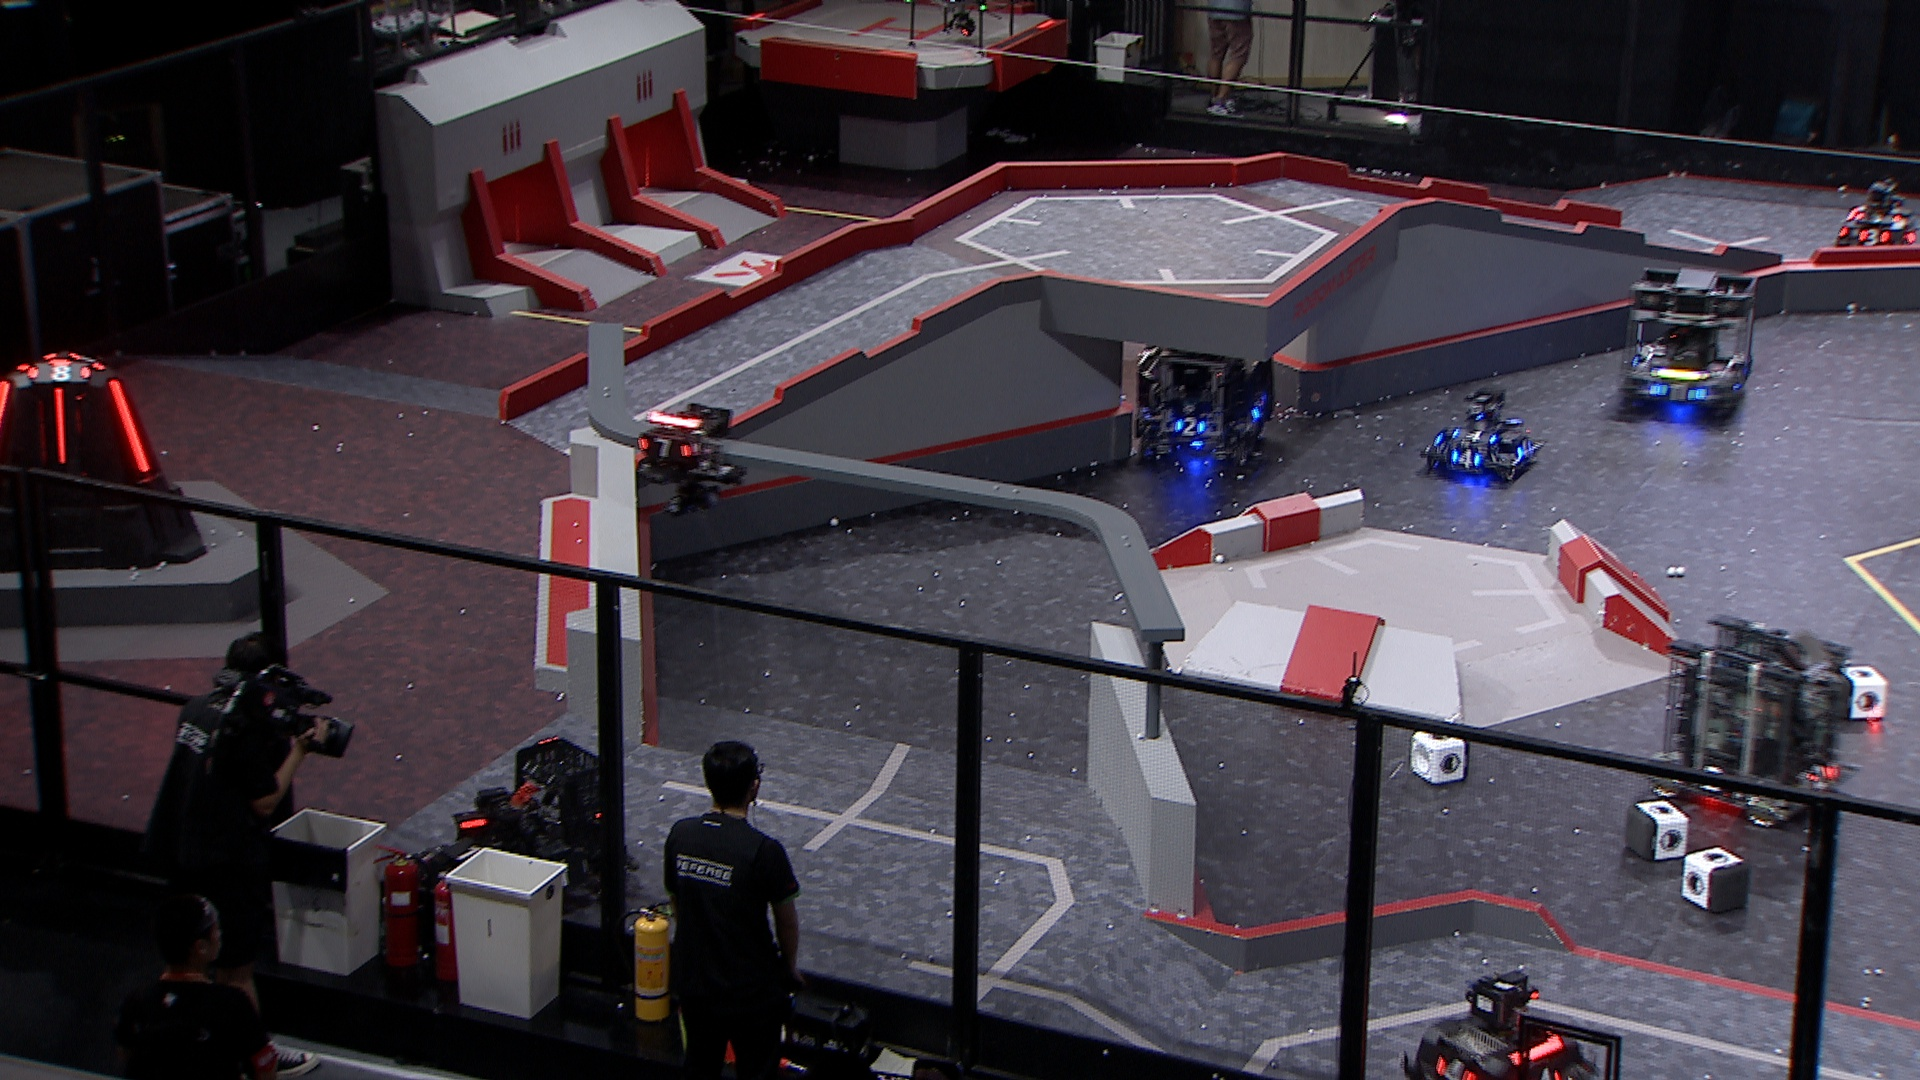armor: (109, 377, 152, 473), (29, 357, 91, 385), (638, 434, 692, 460), (1650, 382, 1709, 404), (53, 386, 69, 463), (442, 836, 483, 864), (1436, 1055, 1480, 1080), (1174, 413, 1209, 440), (1855, 208, 1905, 225), (560, 858, 589, 887), (1854, 225, 1894, 247), (1247, 396, 1273, 427), (1449, 447, 1484, 469), (1452, 429, 1498, 444), (1807, 764, 1840, 785), (1516, 436, 1538, 462), (1528, 1067, 1564, 1080)
car: (1640, 615, 1861, 831), (413, 737, 640, 922), (1400, 972, 1604, 1080), (1619, 268, 1760, 411), (1133, 334, 1278, 465), (1422, 386, 1548, 481), (1836, 177, 1920, 258)
watcher: (633, 404, 749, 518)
